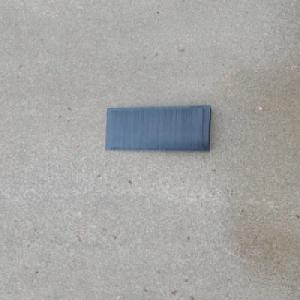PlasticPart: (102, 104, 212, 153)
